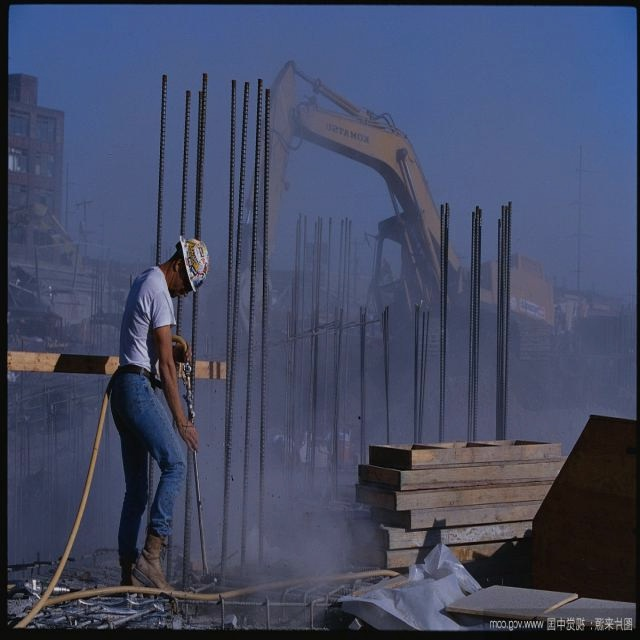Con_Casco: (174, 235, 209, 298)
